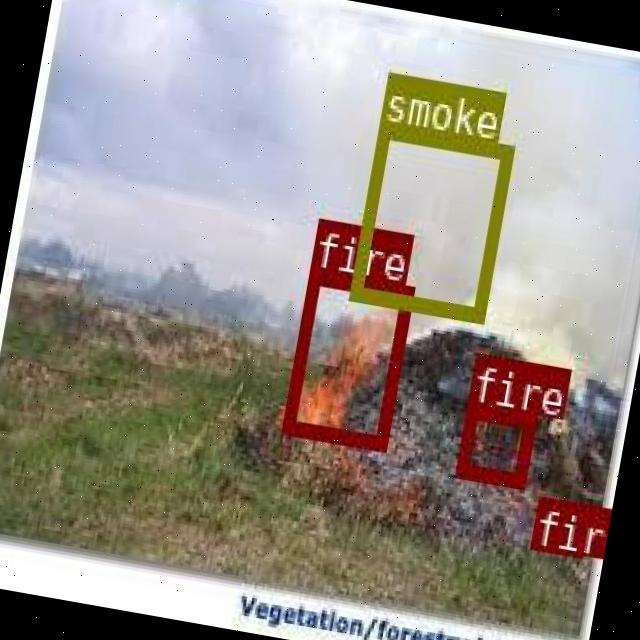fire: (280, 267, 412, 447), (454, 400, 534, 484), (529, 496, 589, 556)
smoke: (347, 119, 512, 320)
